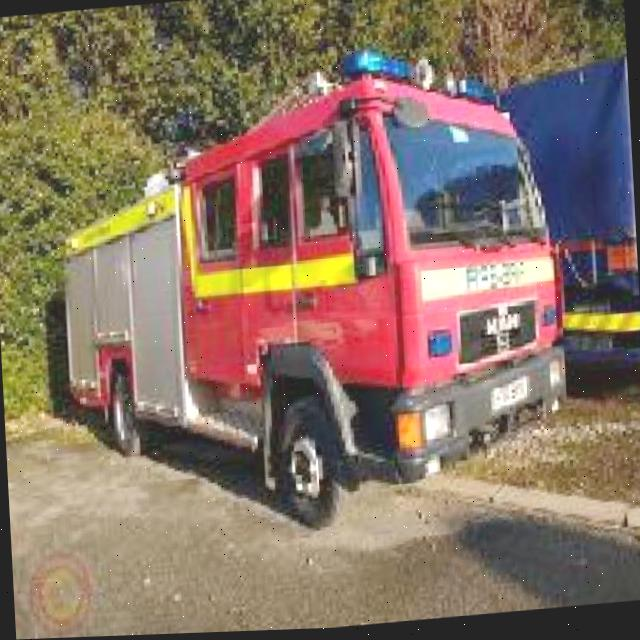emergency: (50, 33, 578, 554)
